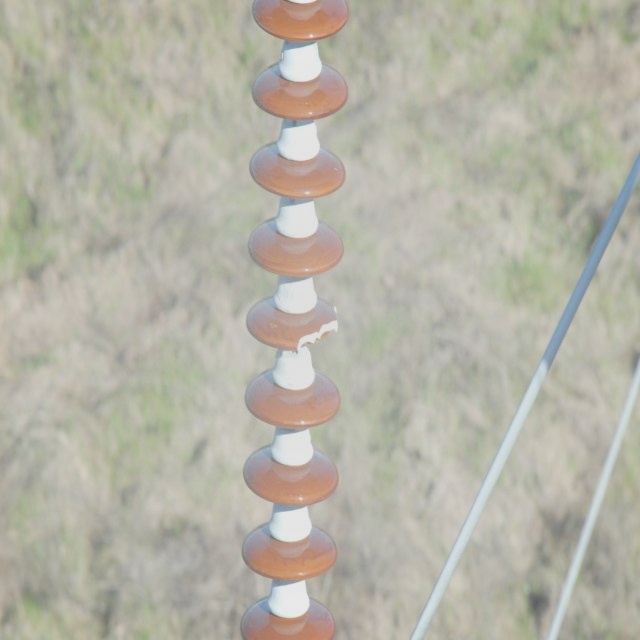broken: (294, 299, 340, 354)
insulator: (238, 3, 352, 639)
